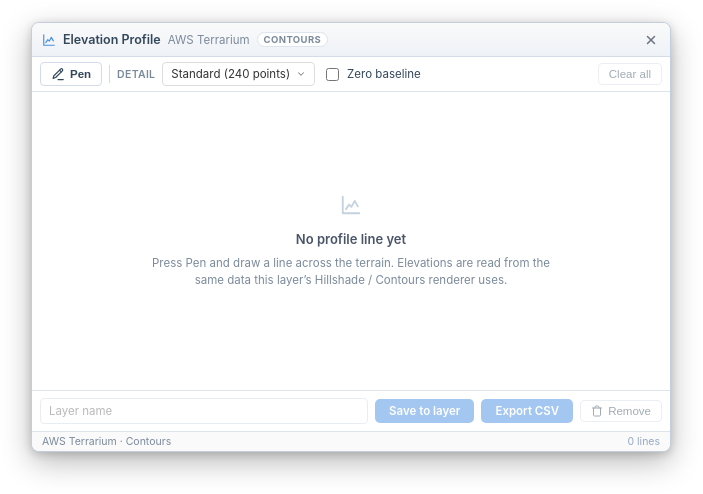
Scenario: profiling a penned line › a second line becomes a tab, and tabs select and remove
Click the button "Pen".
click(71, 74)  # box [40,62,102,86]
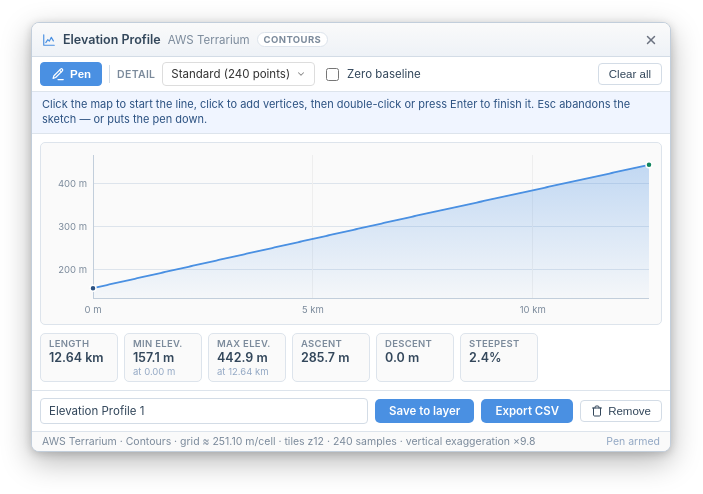
Result: the picture with class "ep-chart" is shown at [41,143,661,324]
Click the button "Pen".
click(71, 74)  # box [40,62,102,86]
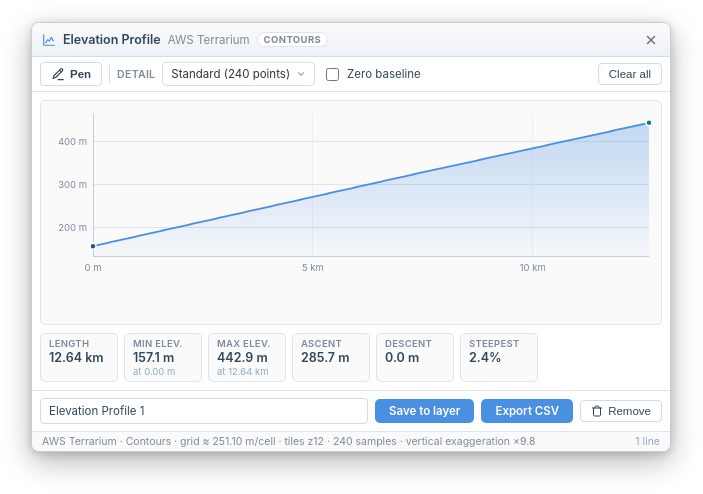
Click the button "Pen".
click(71, 74)  # box [40,62,102,86]
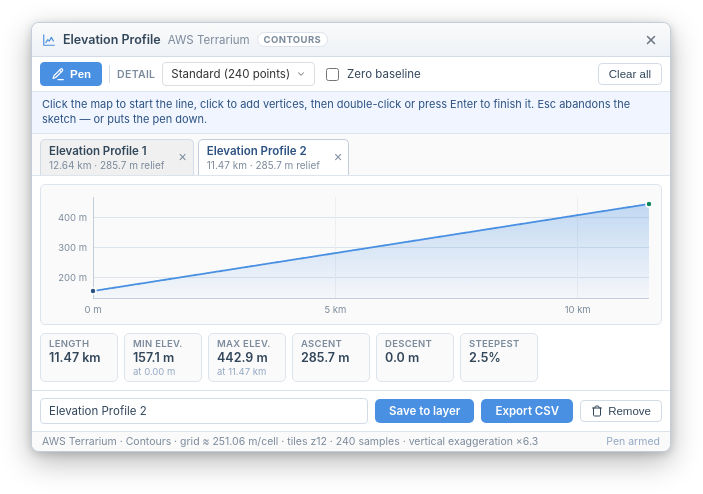
Result: the number of elements with class "ep-tab" is 2 at [40,139,194,175]; [198,139,349,175]
Result: the element with class "ep-tab" shows "Elevation Profile 1"
Result: the element with class "ep-tab" shows "Elevation Profile 2" at [199,140,328,175]
Click the tab with class "ep-tab-body" that starts with "Elevation Profile 1".
click(107, 157)  # box [41,140,173,175]
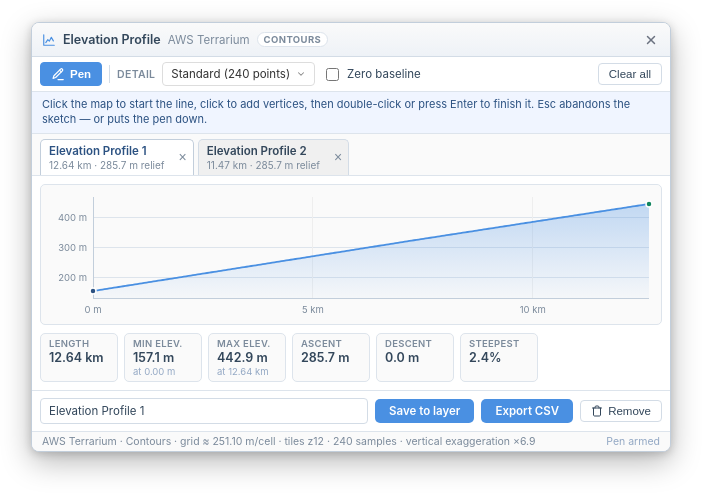
Expected: the element with class "ep-chart-line" is shown, [93,204,649,291]
Result: the field named "Saved layer name" holds "Elevation Profile 1" at [40,398,368,424]
Click the 1st button "×".
click(183, 157)  # box [173,140,193,175]
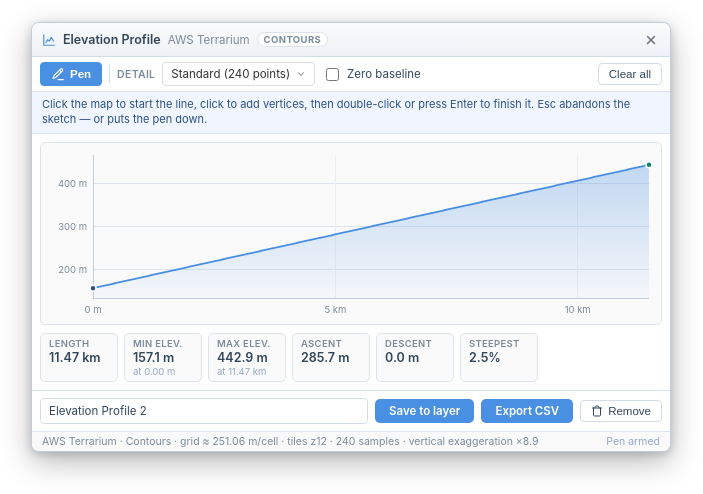
Result: no elements with class "ep-tab" are shown
Result: the field named "Saved layer name" holds "Elevation Profile 2" at [40,398,368,424]
Click the button "Clear all".
click(630, 74)  # box [598,63,662,85]
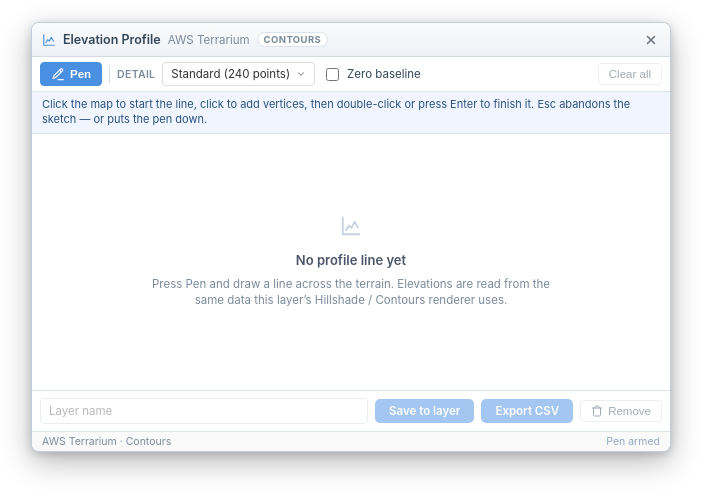
Result: the text "No profile line yet" is shown at [296,252,406,268]
